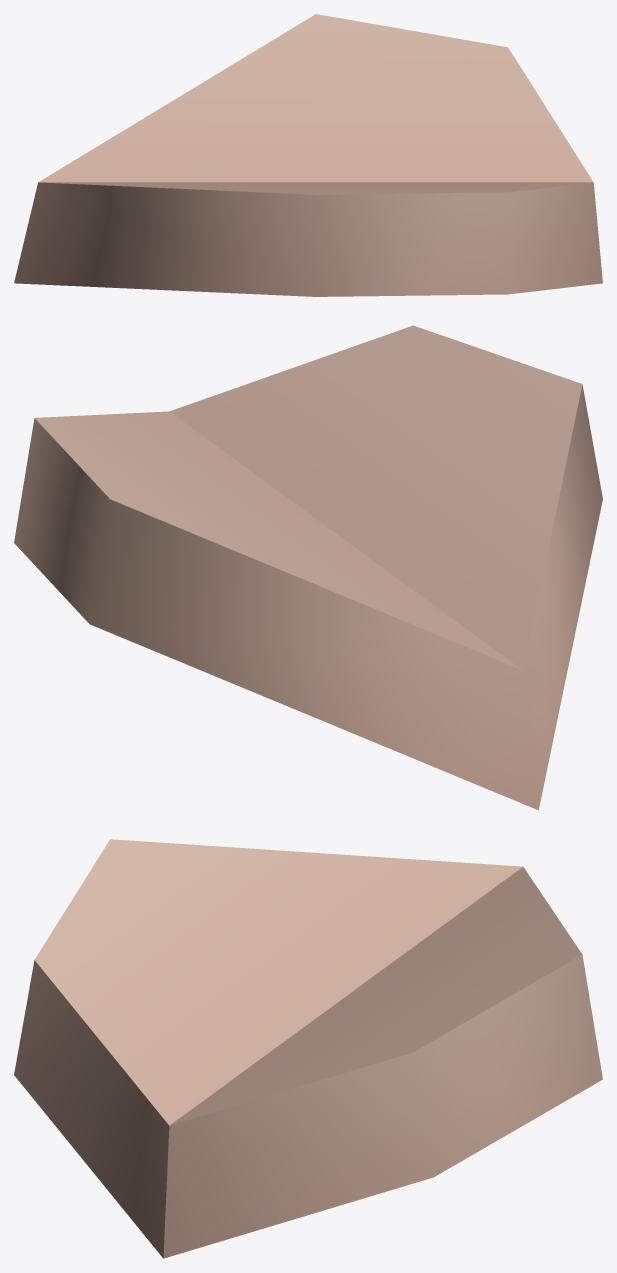
File: (%no-merge) 42.glb
The picture shows the model from 3 angles, top to bottom: view 1: azimuth 30°, elevation 25°; view 2: azimuth 150°, elevation 25°; view 3: azimuth 270°, elevation 25°; orthographic projection. The views are drawn at different scales.
Visible parts, largest first — view 1: (%no-merge) 42; view 2: (%no-merge) 42; view 3: (%no-merge) 42.
Part boxes in pixels (x1,y1,x2,y2): (%no-merge) 42: [14, 14, 602, 296]; (%no-merge) 42: [14, 325, 602, 810]; (%no-merge) 42: [14, 839, 602, 1258].
Size of the model in its own units: 0.1614 by 0.0609 by 0.1426.
